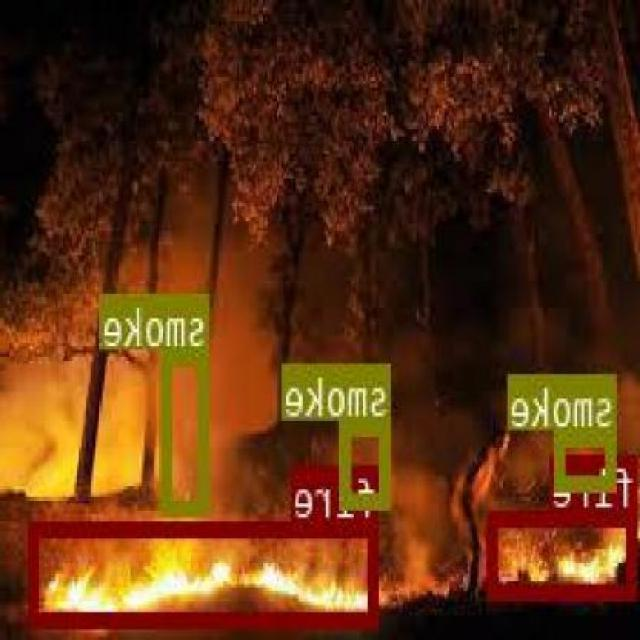Fire: (0, 494, 640, 618)
Smoke: (25, 252, 287, 504)
